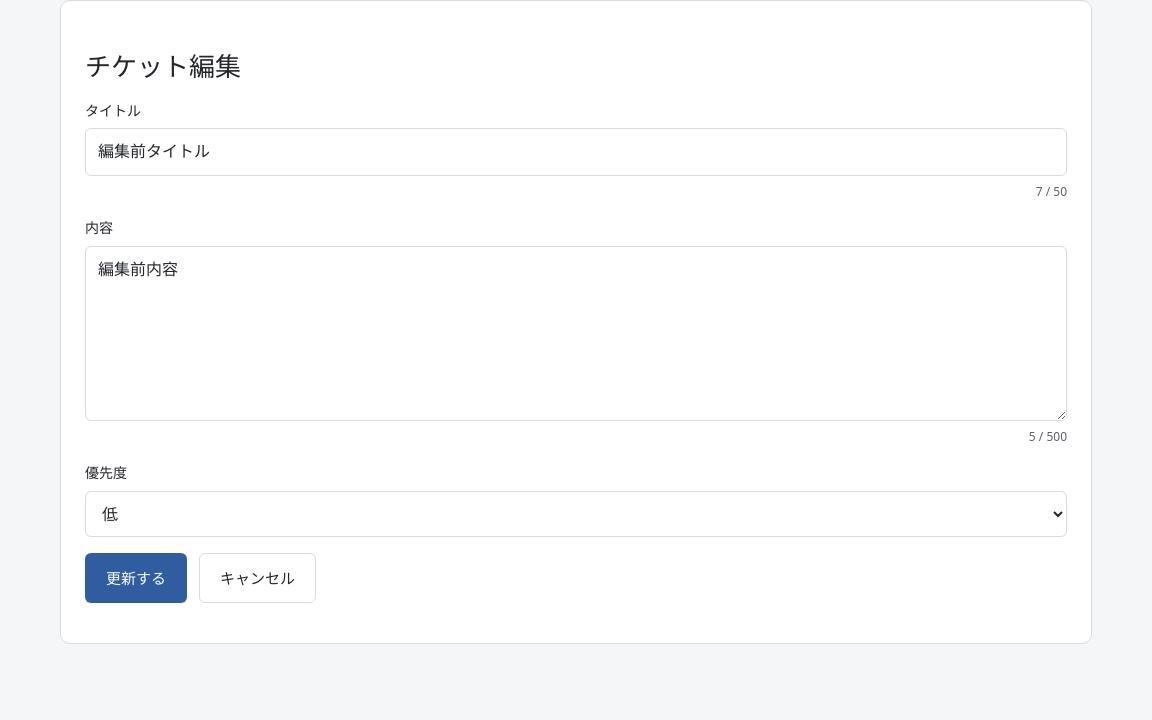
Test: TicketEditPage › 内容を空にするとバリデーションエラーを表示しPATCHを呼ばない
The image size is (1152, 720).
Clear the text box labelled "内容" at (576, 334), box [85,246,1067,421]
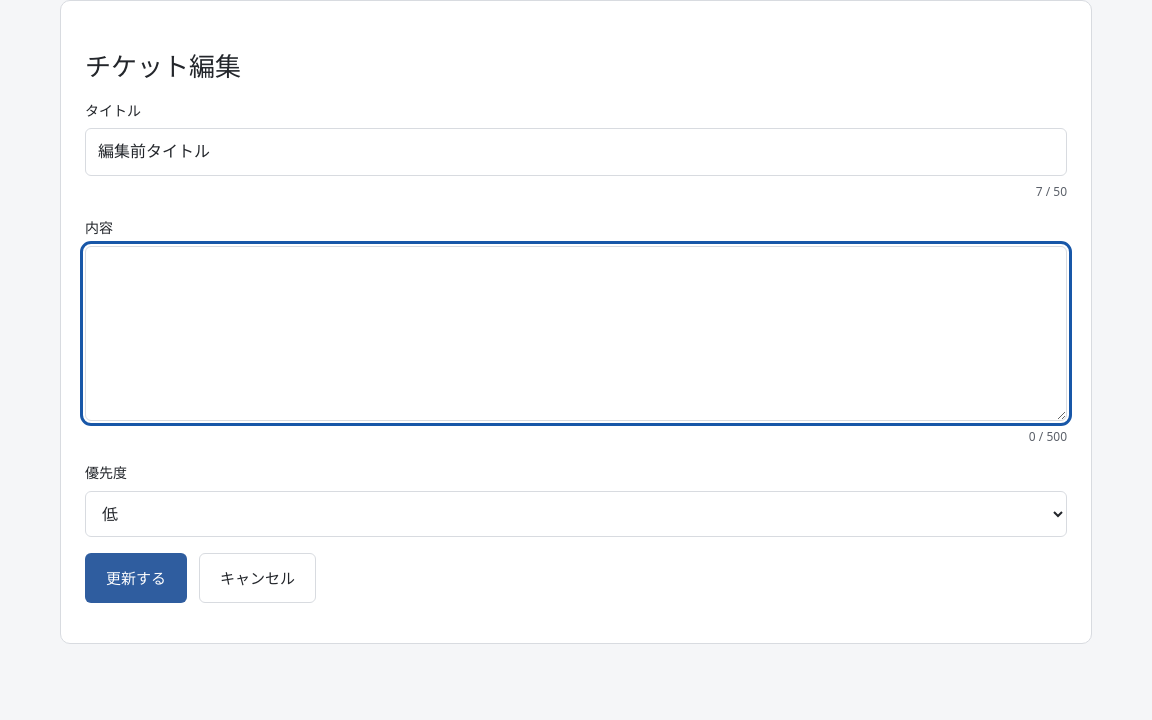
Click the button "更新する" at (136, 578), box [85,553,187,603]
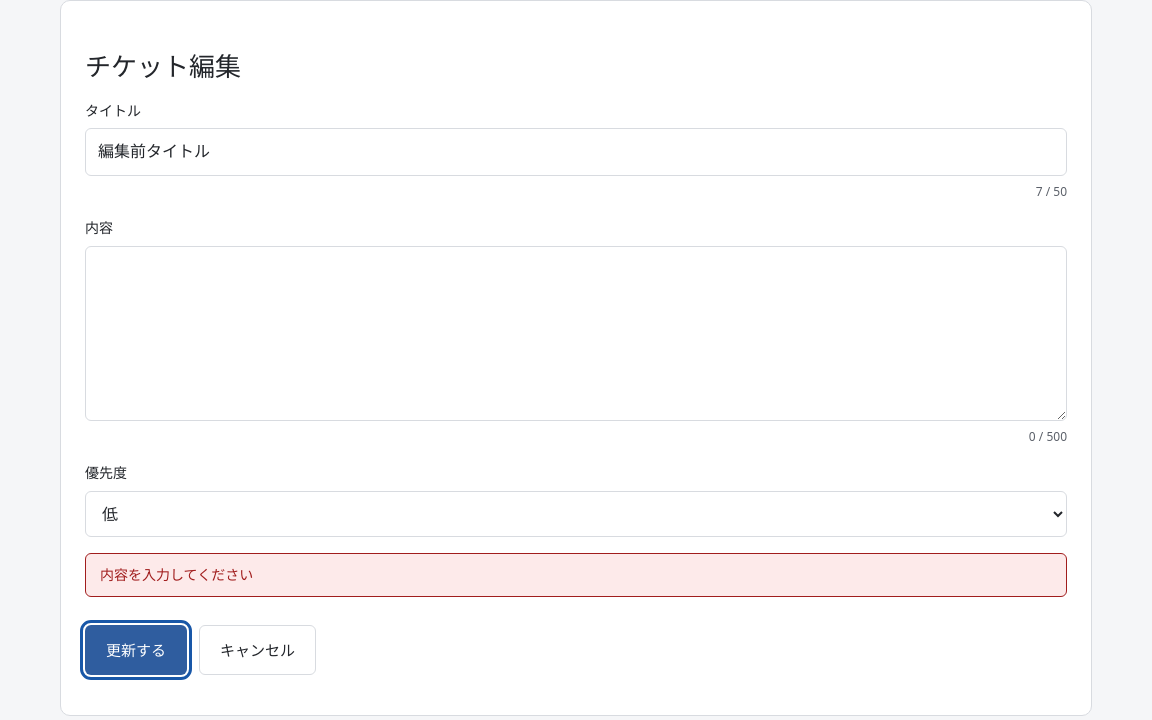
Check: the message reads "内容を入力してください", box [100,565,253,584]
